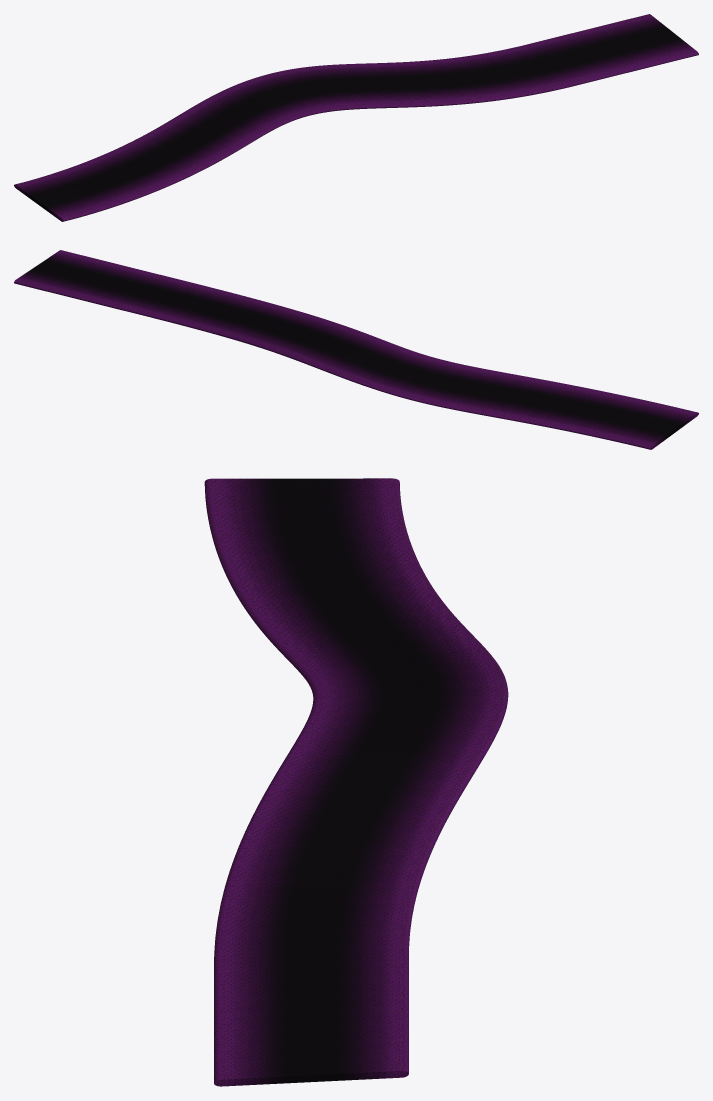
File: level-02-track-10.glb
The picture shows the model from 3 angles, top to bottom: view 1: azimuth 30°, elevation 25°; view 2: azimuth 150°, elevation 25°; view 3: azimuth 270°, elevation 25°; orthographic projection. The views are drawn at different scales.
Visible parts, largest first — view 1: track-10; view 2: track-10; view 3: track-10.
Part boxes in pixels (x1,y1,x2,y2): track-10: [14, 14, 698, 221]; track-10: [14, 250, 698, 449]; track-10: [204, 478, 508, 1086].
Size of the model in its own units: 78.69 by 3.15 by 16.28.
2 materials, 2 textured.
